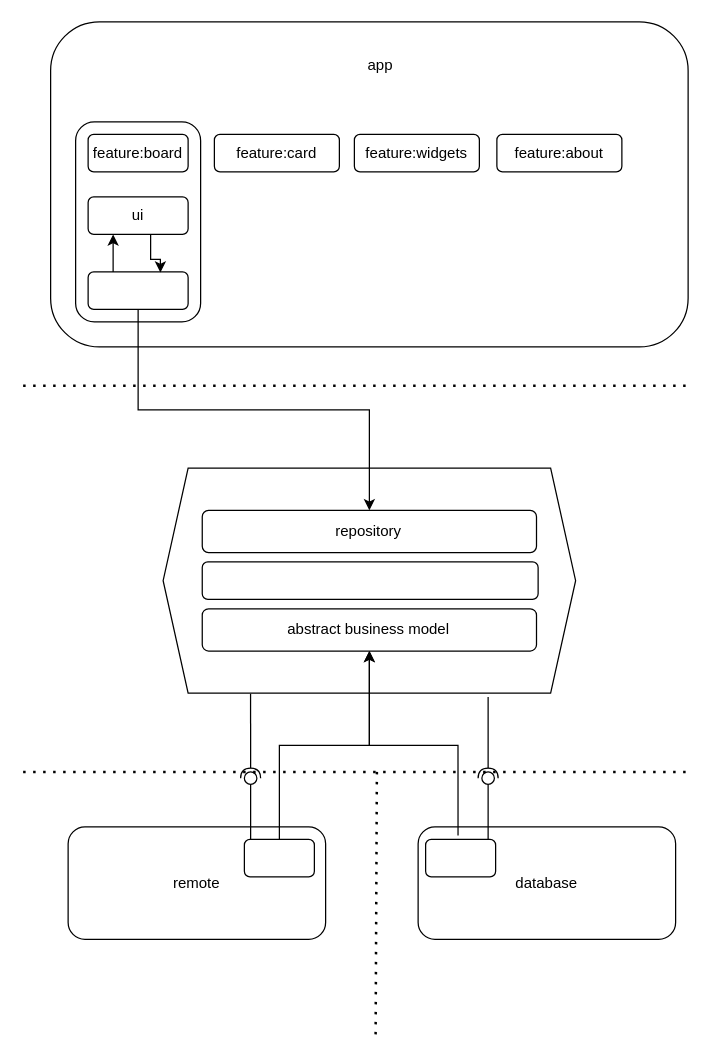
Image size: 710x1059. Some labels were removed from this diagram. The centre of each missing label's shape, as x and y in pixels:
dto: pixel 278 857
entity: pixel 460 857
sync: pixel 369 580
viewmodel: pixel 137 290
